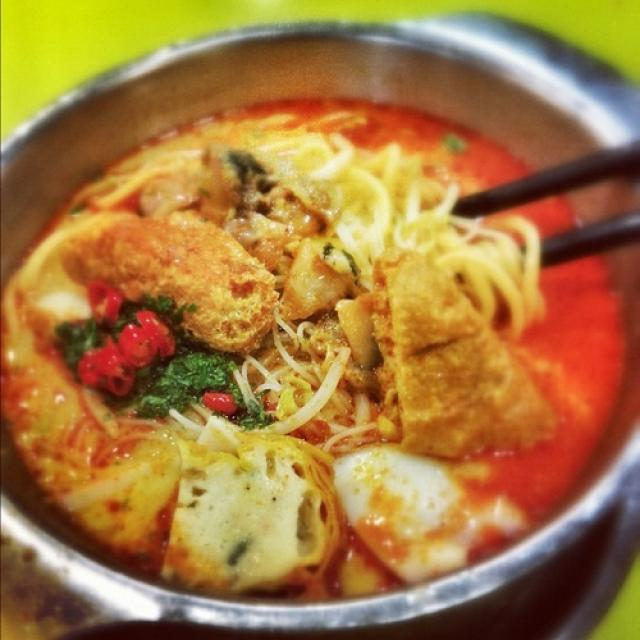汤锅炖物: (13, 21, 617, 604)
